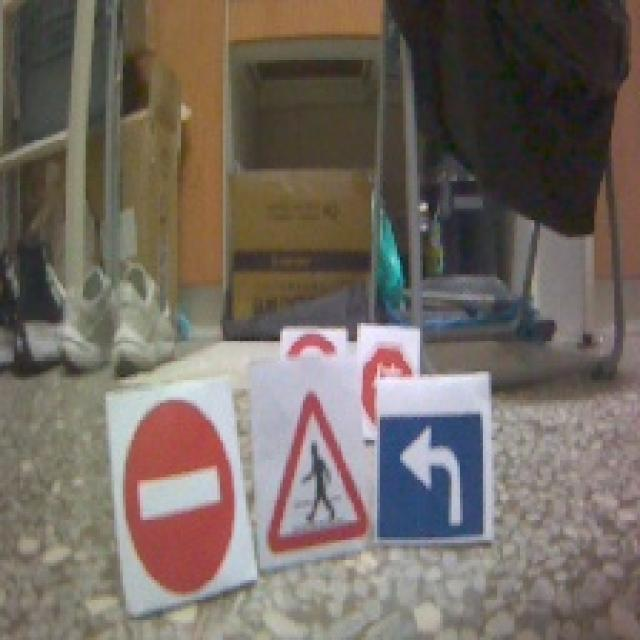DoNotEnterSign: (120, 400, 239, 594)
